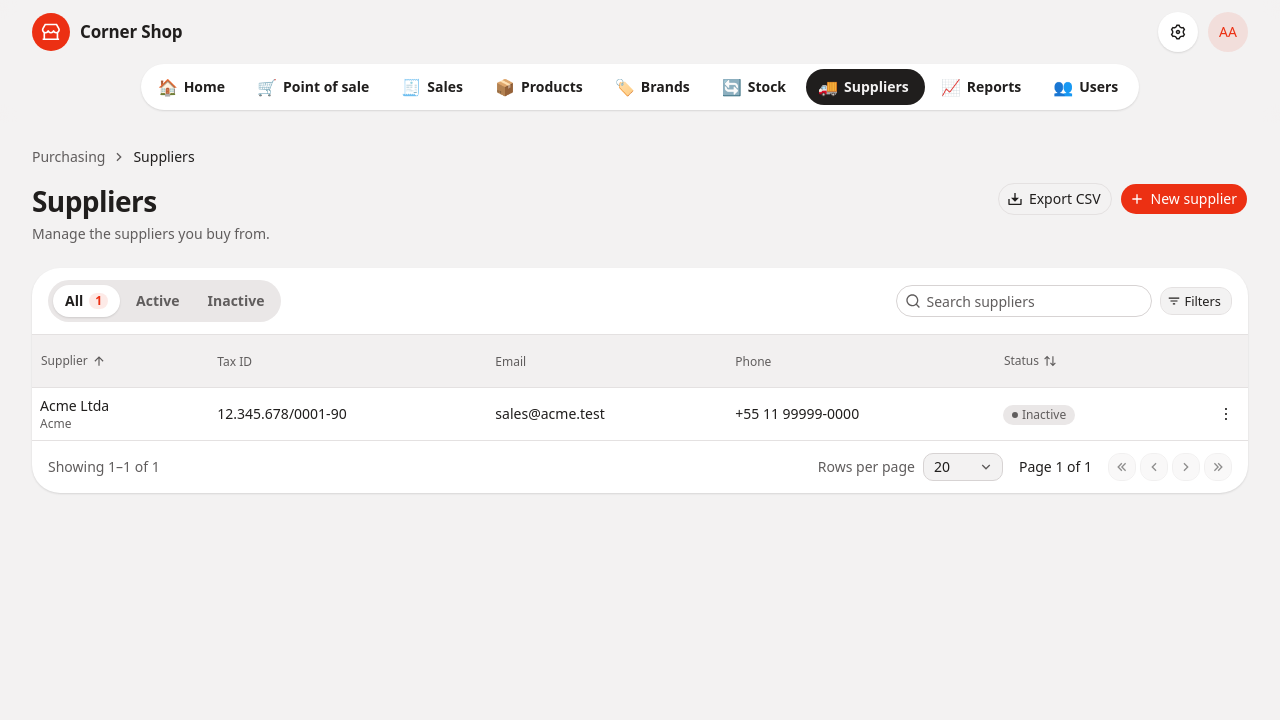
SupplierListPage › activates an inactive supplier without confirmation
This screenshot has width=1280, height=720.
Check: the link "Acme Ltda" is shown, box [40,396,109,415]
Click the button named "Actions" at (1226, 414), box [1212,400,1240,428]
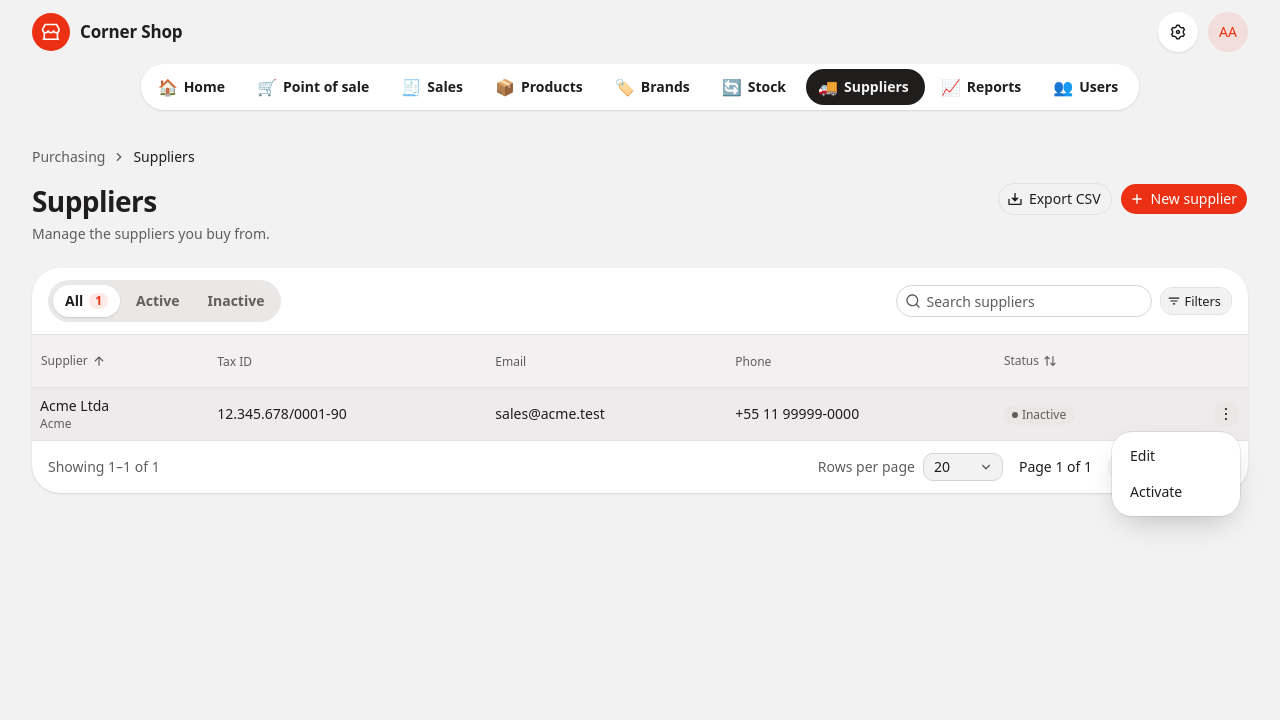
Click the menu item "Activate" at (1156, 492), box [1130,482,1182,501]
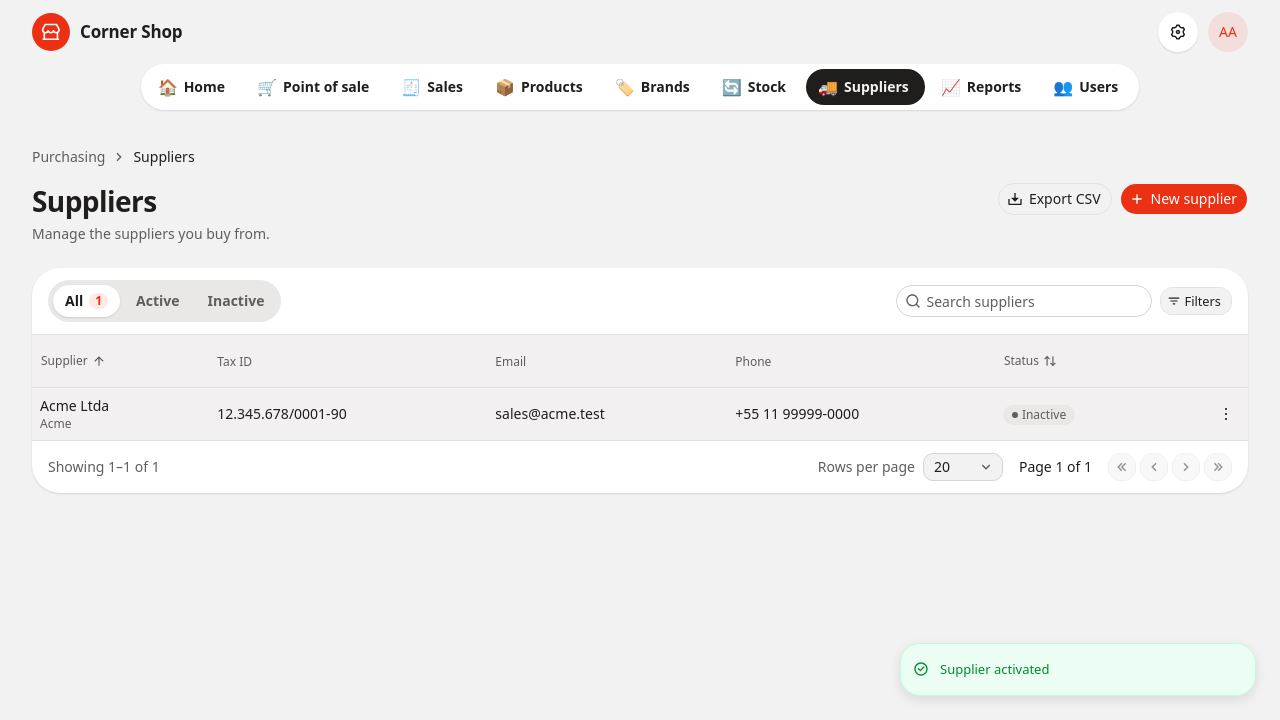
Check: the text "Supplier activated" is shown, box [940,660,1050,679]
